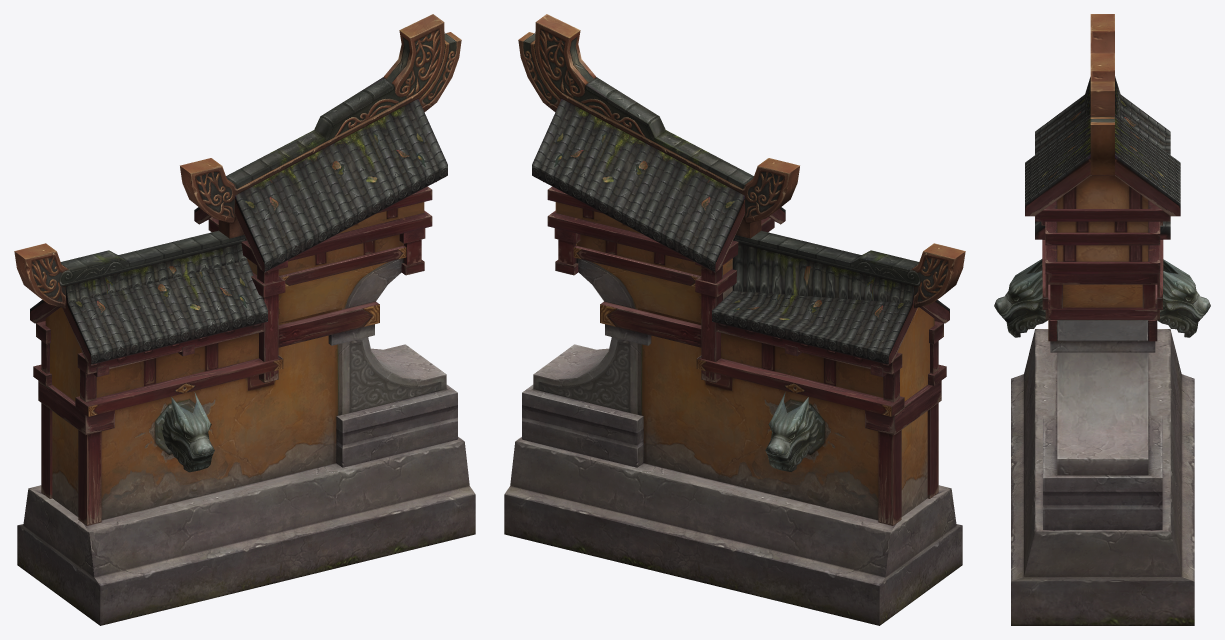
File: men.FBX
3 renders of one model, left to right at view 1: azimuth 30°, elevation 25°; view 2: azimuth 150°, elevation 25°; view 3: azimuth 270°, elevation 25°, orthographic. The views are drawn at different scales.
Visible parts, largest first — view 1: 52004; view 2: 52004; view 3: 52004.
Part boxes in pixels (x1,y1,x2,y2): 52004: [14, 14, 475, 625]; 52004: [504, 14, 965, 625]; 52004: [994, 14, 1210, 625].
Bounding box in the file's own units: 695 × 738 × 270.
